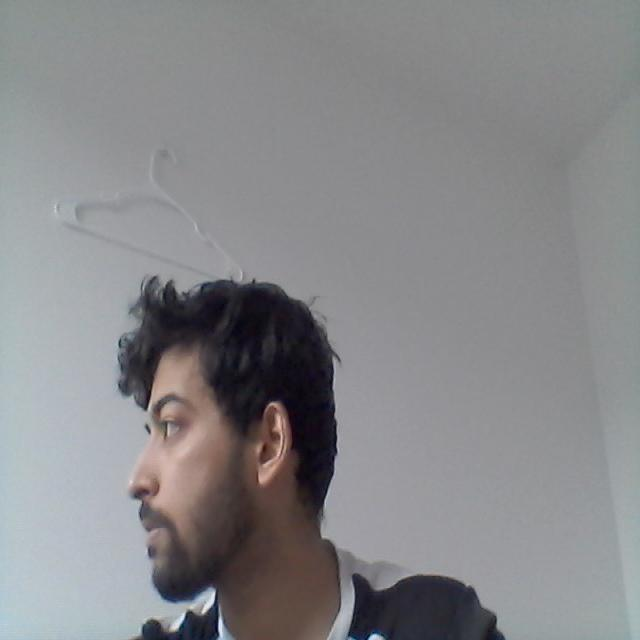nocap: (110, 258, 342, 498)
